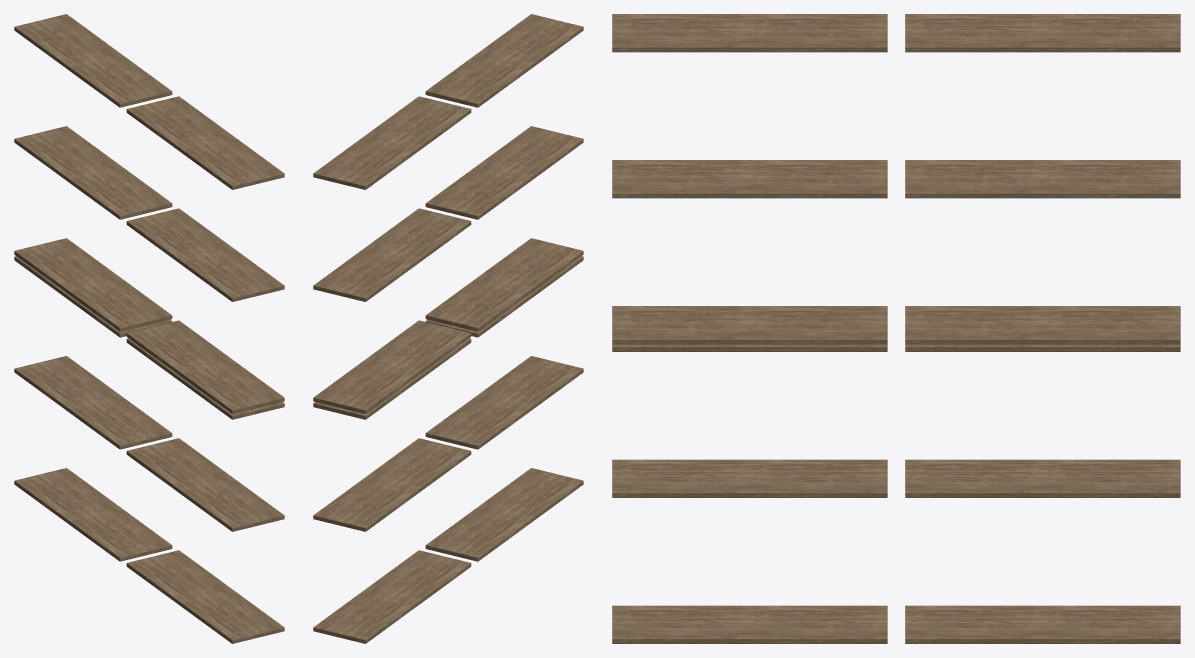
File: rackFlowersDefoult2.gltf
The picture shows the model from 3 angles, left to right: view 1: azimuth 30°, elevation 25°; view 2: azimuth 150°, elevation 25°; view 3: azimuth 270°, elevation 25°; orthographic projection. The views are drawn at different scales.
Parts seen in each view (by area): view 1: rackFlowersDefoult2; view 2: rackFlowersDefoult2; view 3: rackFlowersDefoult2.
Boxes of the visible parts, x1=… form: rackFlowersDefoult2: x1=14, y1=14, x2=284, y2=643; rackFlowersDefoult2: x1=313, y1=14, x2=583, y2=643; rackFlowersDefoult2: x1=612, y1=14, x2=1180, y2=643.
Size of the model in its own units: 1.09 by 9.1 by 7.86.
1 material, 1 textured.
